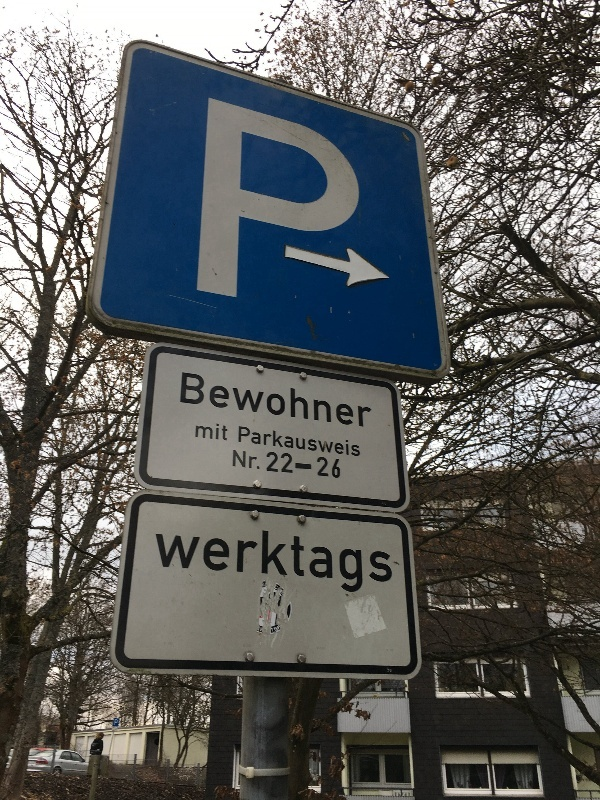text: (209, 97, 224, 326), (225, 97, 240, 326), (241, 97, 256, 326), (257, 97, 272, 326), (273, 97, 288, 326), (289, 97, 304, 326), (305, 97, 320, 326), (321, 97, 336, 326), (337, 97, 352, 326), (353, 97, 360, 326), (161, 518, 176, 599), (177, 518, 192, 599), (193, 518, 208, 599), (209, 518, 224, 599), (225, 518, 240, 599), (241, 518, 256, 599), (257, 518, 272, 599), (273, 518, 288, 599), (289, 518, 304, 599), (305, 518, 320, 599), (321, 518, 336, 599), (337, 518, 352, 599), (353, 518, 368, 599), (369, 518, 384, 599), (193, 372, 208, 429), (209, 372, 224, 429), (225, 372, 240, 429), (241, 372, 256, 429), (257, 372, 272, 429), (273, 372, 288, 429), (289, 372, 304, 429), (305, 372, 320, 429), (321, 372, 336, 429), (337, 372, 352, 429), (353, 372, 368, 429), (385, 518, 394, 599), (152, 518, 160, 599), (183, 372, 192, 429), (241, 447, 256, 479), (257, 447, 272, 479), (273, 447, 288, 479), (289, 447, 304, 479), (305, 447, 320, 479), (321, 447, 336, 479), (241, 426, 256, 457), (257, 426, 272, 457), (273, 426, 288, 457), (289, 426, 304, 457), (305, 426, 320, 457), (321, 426, 336, 457), (337, 426, 352, 457), (209, 420, 224, 443), (196, 420, 208, 443), (353, 426, 361, 457), (369, 372, 373, 429), (234, 447, 240, 479), (337, 447, 340, 479), (225, 420, 229, 443), (115, 720, 128, 726), (239, 426, 240, 457)
